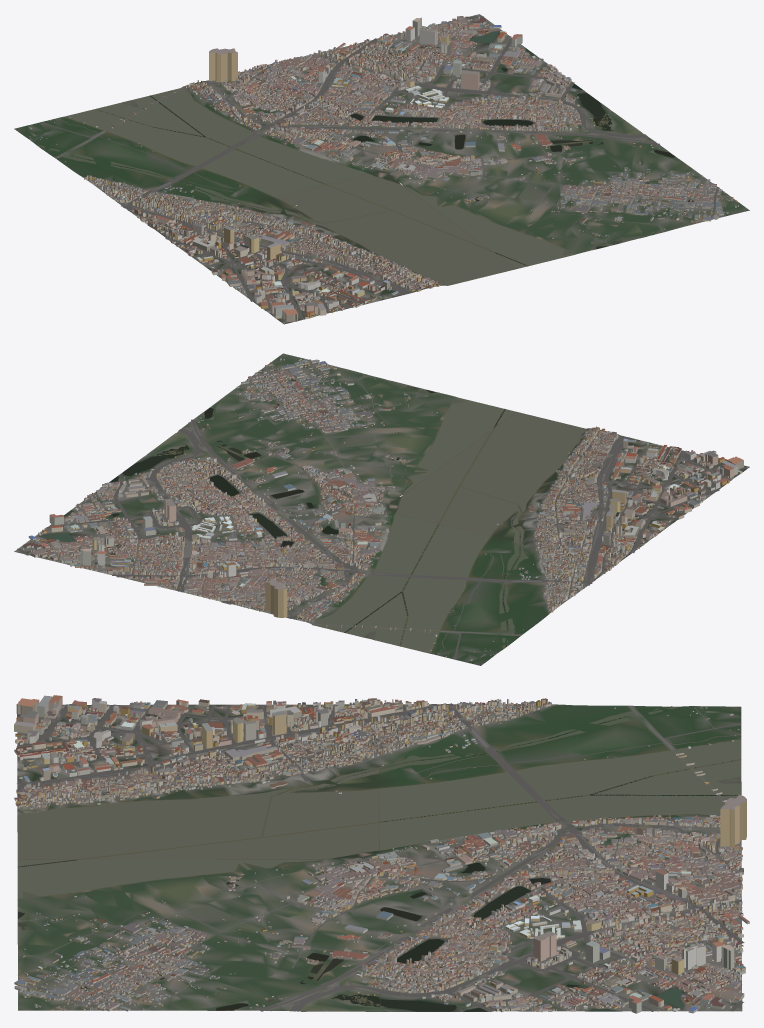
3 views of the same model, one above another, from view 1: azimuth 30°, elevation 25°; view 2: azimuth 150°, elevation 25°; view 3: azimuth 270°, elevation 25° (orthographic). The views are drawn at different scales.
Parts seen in each view (by area): view 1: buildings, ground, water, roads; view 2: ground, buildings, water, roads; view 3: buildings, ground, water, roads.
Part boxes in pixels (bbox=[...]): buildings: bbox=[29, 16, 738, 323]; ground: bbox=[14, 14, 749, 324]; water: bbox=[37, 31, 693, 285]; roads: bbox=[30, 16, 729, 319]; ground: bbox=[14, 353, 749, 665]; buildings: bbox=[22, 358, 747, 660]; water: bbox=[41, 378, 654, 653]; roads: bbox=[17, 363, 731, 659]; buildings: bbox=[14, 695, 749, 1013]; ground: bbox=[17, 704, 742, 1011]; water: bbox=[17, 706, 741, 1011]; roads: bbox=[17, 703, 744, 1011].
Size of the model in its own units: 2834 by 171 by 2850.
